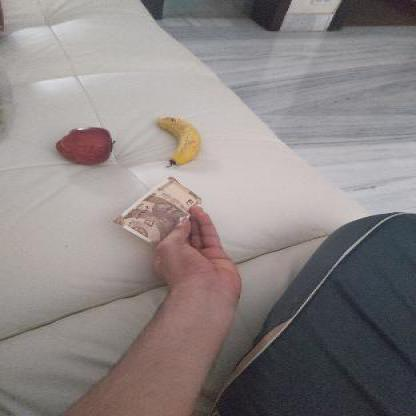New10Front: (115, 176, 204, 242)
